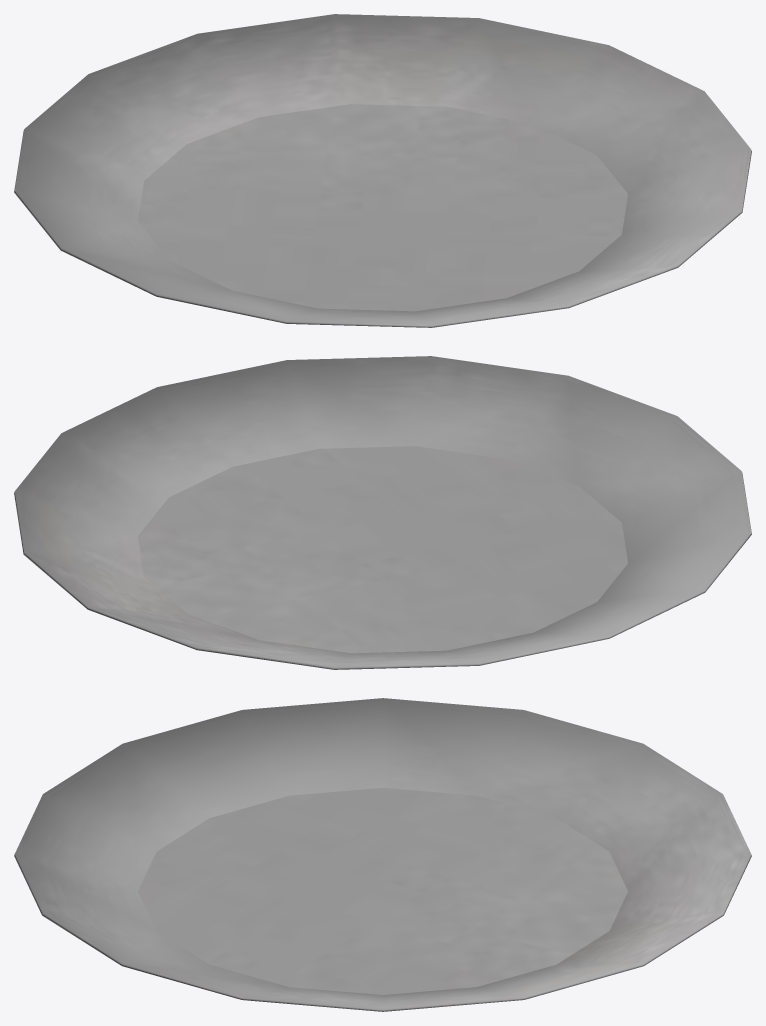
Rendered from plate.fbx.
3 renders of one model, top to bottom at view 1: azimuth 30°, elevation 25°; view 2: azimuth 150°, elevation 25°; view 3: azimuth 270°, elevation 25°, orthographic.
Parts seen in each view (by area): view 1: SM_Plate_T_Plate_0; view 2: SM_Plate_T_Plate_0; view 3: SM_Plate_T_Plate_0.
Part boxes in pixels (bbox=[...]): SM_Plate_T_Plate_0: bbox=[14, 14, 751, 327]; SM_Plate_T_Plate_0: bbox=[14, 356, 751, 669]; SM_Plate_T_Plate_0: bbox=[14, 698, 751, 1011].
Size of the model in its own units: 21.77 by 1.3 by 21.77.
